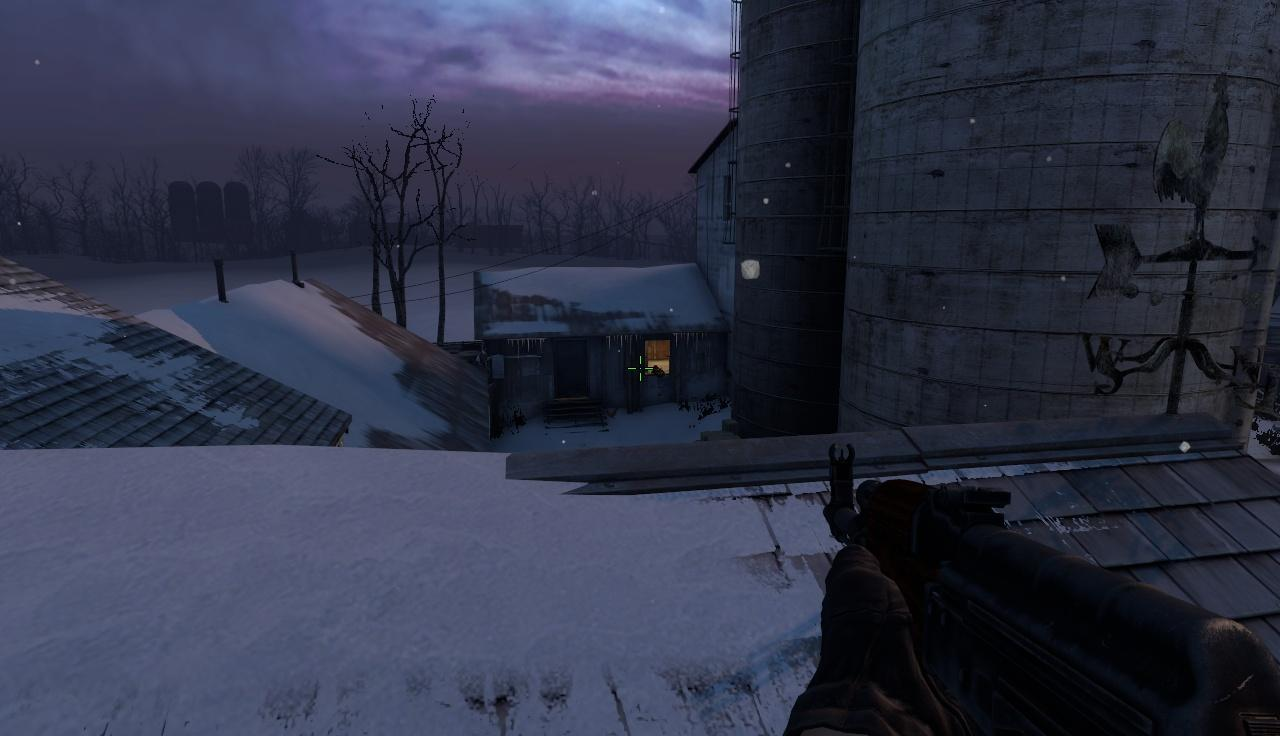cthead: (652, 366, 663, 374)
rifle: (814, 446, 1280, 736)
